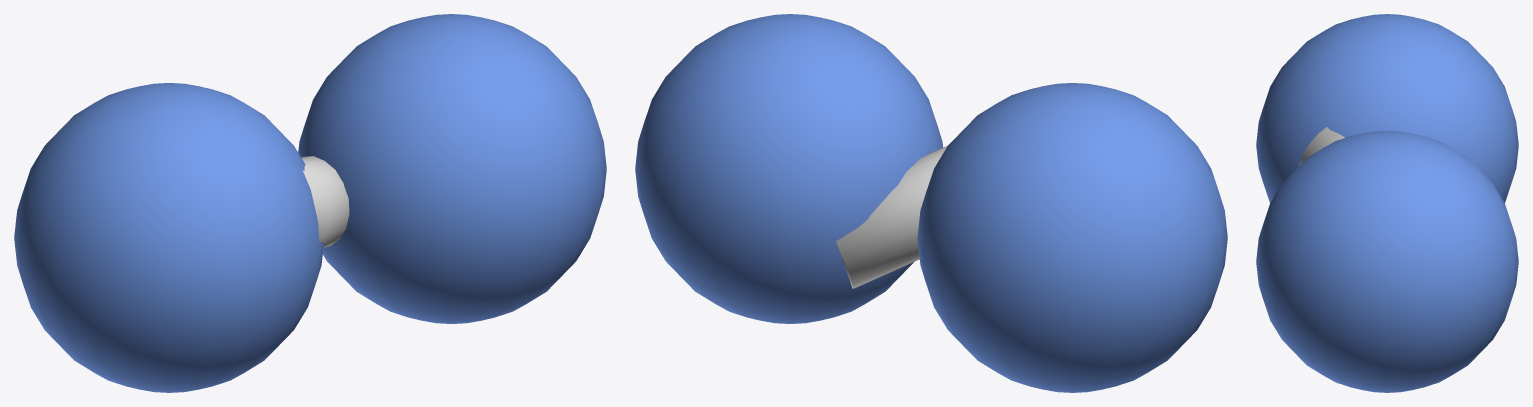
Rendered from nitrogen_molecule.glb.
3 views of the same model, side by side, from view 1: azimuth 30°, elevation 25°; view 2: azimuth 150°, elevation 25°; view 3: azimuth 270°, elevation 25° (orthographic). The views are drawn at different scales.
Parts seen in each view (by area): view 1: n2_node, n1_node, bond_node; view 2: n2_node, n1_node, bond_node; view 3: n1_node, n2_node, bond_node.
Part boxes in pixels (<box>): n2_node: <box>14,83,323,392</box>; n1_node: <box>298,14,606,323</box>; bond_node: <box>301,156,349,247</box>; n2_node: <box>917,83,1227,392</box>; n1_node: <box>635,14,943,323</box>; bond_node: <box>836,145,947,288</box>; n1_node: <box>1256,130,1518,392</box>; n2_node: <box>1256,14,1518,202</box>; bond_node: <box>1298,127,1344,165</box>.
Size of the model in its own units: 1.64 by 0.8 by 0.8.
